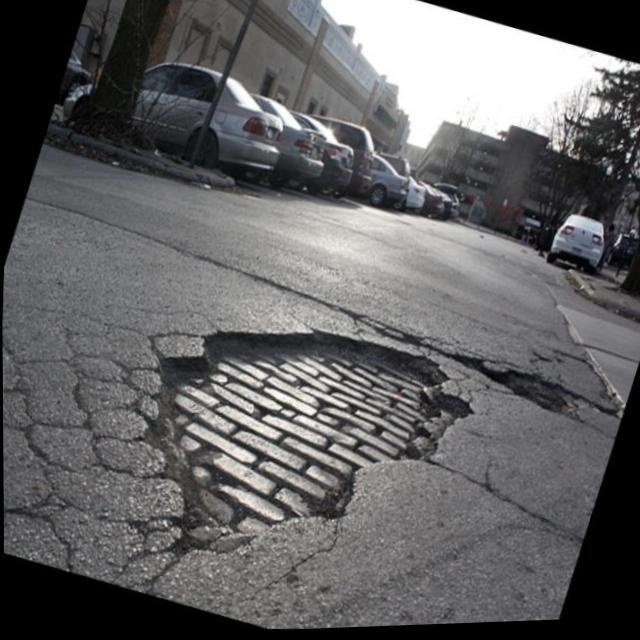pothole: (128, 306, 447, 531), (467, 328, 588, 431)
